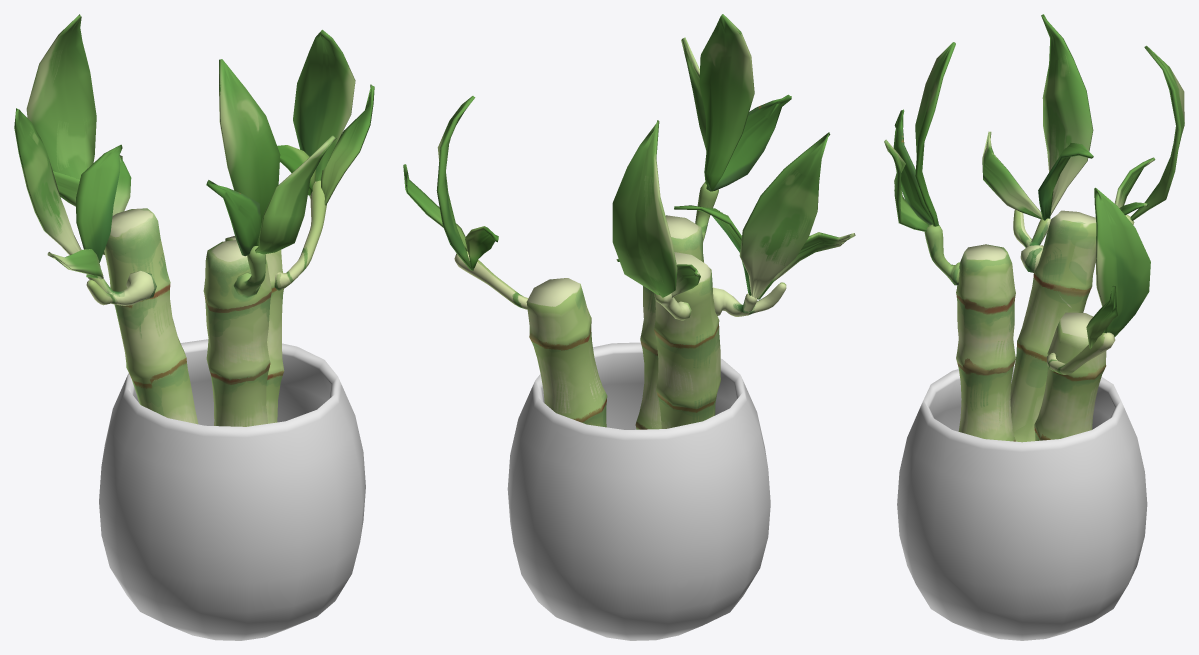
Rendered from luckybamboo_solid.fbx.
3 views of the same model, side by side, from view 1: azimuth 30°, elevation 25°; view 2: azimuth 150°, elevation 25°; view 3: azimuth 270°, elevation 25° (orthographic). The views are drawn at different scales.
Visible parts, largest first — view 1: Circle, Plane, Plane.001, Plane.006, Plane.003, Plane.004, Plane.005, Plane.011, Plane.013, Plane.012, Plane.002, Plane.015 (+5 smaller); view 2: Circle, Plane, Plane.004, Plane.001, Plane.006, Plane.012, Plane.003, Plane.015, Plane.002, Plane.010, Plane.011, Plane.013 (+2 smaller); view 3: Circle, Plane, Plane.004, Plane.003, Plane.006, Plane.001, Plane.010, Plane.012, Plane.015, Plane.005, Plane.011, Plane.002 (+3 smaller).
Boxes of the visible parts, x1=… form: Circle: x1=99, y1=339, x2=365, y2=640; Plane: x1=104, y1=208, x2=284, y2=426; Plane.001: x1=26, y1=14, x2=96, y2=179; Plane.006: x1=219, y1=59, x2=280, y2=246; Plane.003: x1=293, y1=29, x2=355, y2=197; Plane.004: x1=14, y1=108, x2=81, y2=255; Plane.005: x1=76, y1=144, x2=122, y2=262; Plane.011: x1=255, y1=135, x2=336, y2=254; Plane.013: x1=321, y1=84, x2=374, y2=205; Plane.012: x1=206, y1=180, x2=261, y2=256; Plane.002: x1=274, y1=180, x2=326, y2=291; Plane.015: x1=86, y1=270, x2=156, y2=305; Circle: x1=507, y1=342, x2=770, y2=640; Plane: x1=526, y1=215, x2=720, y2=429; Plane.004: x1=739, y1=132, x2=830, y2=298; Plane.001: x1=612, y1=120, x2=677, y2=297; Plane.006: x1=699, y1=14, x2=754, y2=191; Plane.012: x1=706, y1=94, x2=791, y2=191; Plane.003: x1=436, y1=96, x2=475, y2=270; Plane.015: x1=713, y1=282, x2=786, y2=316; Plane.002: x1=454, y1=251, x2=528, y2=309; Plane.010: x1=757, y1=232, x2=855, y2=299; Plane.011: x1=681, y1=37, x2=706, y2=149; Plane.013: x1=403, y1=164, x2=467, y2=251; Circle: x1=897, y1=360, x2=1147, y2=640; Plane: x1=956, y1=210, x2=1106, y2=442; Plane.004: x1=1041, y1=14, x2=1093, y2=215; Plane.003: x1=1094, y1=187, x2=1150, y2=337; Plane.006: x1=915, y1=42, x2=955, y2=226; Plane.001: x1=1130, y1=45, x2=1184, y2=220; Plane.010: x1=982, y1=131, x2=1042, y2=218; Plane.012: x1=893, y1=109, x2=939, y2=225; Plane.015: x1=1013, y1=209, x2=1050, y2=272; Plane.005: x1=1038, y1=143, x2=1093, y2=220; Plane.011: x1=884, y1=139, x2=929, y2=231; Plane.002: x1=1046, y1=332, x2=1115, y2=374.
Size of the model in its own units: 21.27 by 30.48 by 15.07.
Materials: 4 (2 with a texture image).
